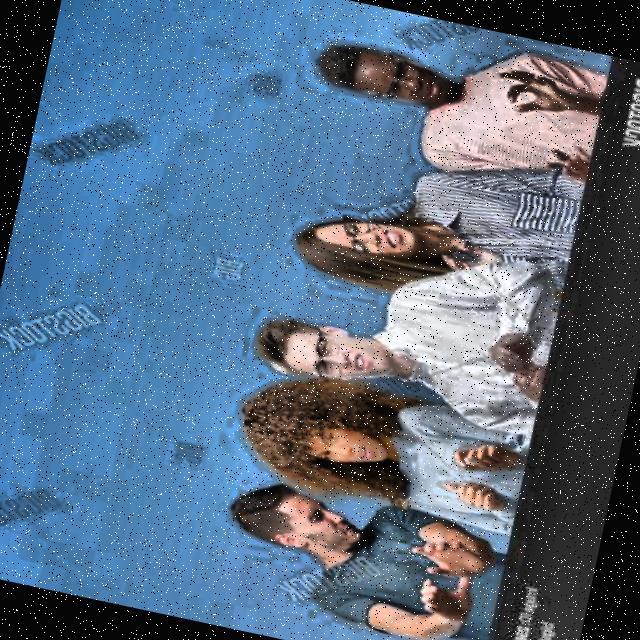disgust: (218, 361, 434, 515), (195, 470, 395, 580), (285, 185, 451, 307), (307, 30, 483, 129), (248, 304, 419, 399)
